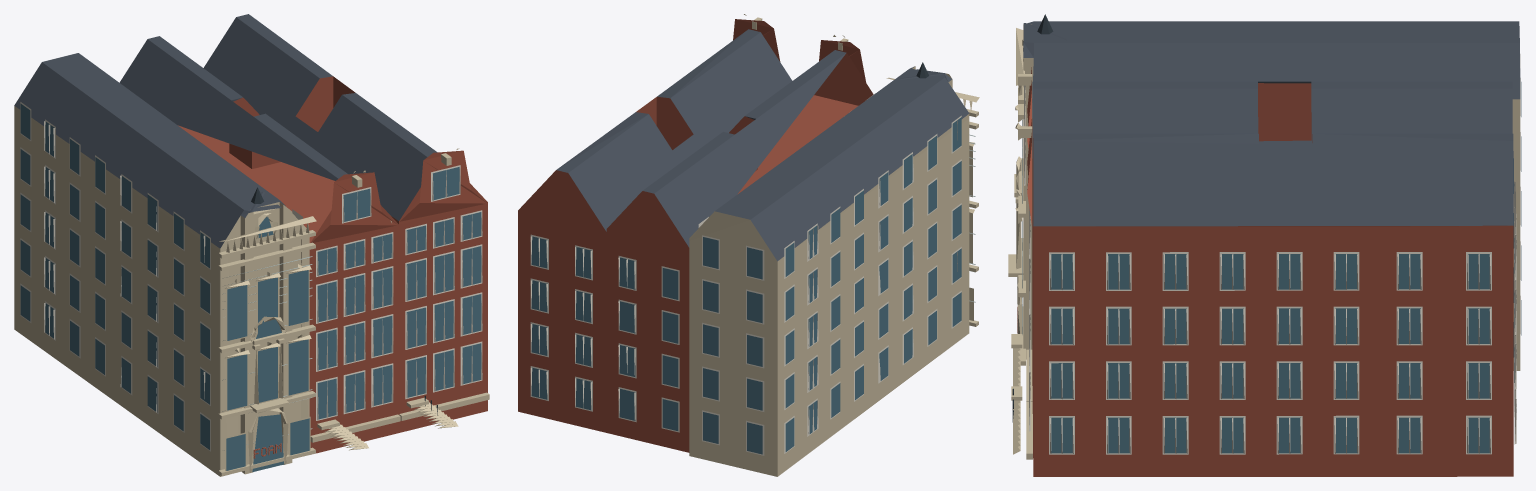
File: foam.lod1.glb
The picture shows the model from 3 angles, left to right: view 1: azimuth 30°, elevation 25°; view 2: azimuth 150°, elevation 25°; view 3: azimuth 270°, elevation 25°; orthographic projection. The views are drawn at different scales.
Visible parts, largest first — view 1: foam; view 2: foam; view 3: foam.
Part boxes in pixels (x1,y1,x2,y2): foam: (14, 14, 489, 476); foam: (518, 14, 979, 476); foam: (1008, 14, 1521, 476).
Bounding box in the file's own units: 22.85 × 21.82 × 30.68.
